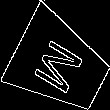M_SE: (29, 32, 90, 97)
